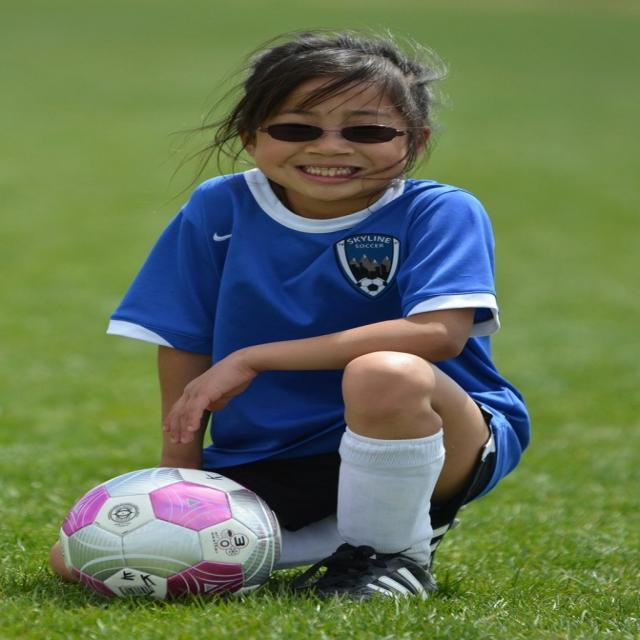ball: (51, 467, 277, 607)
